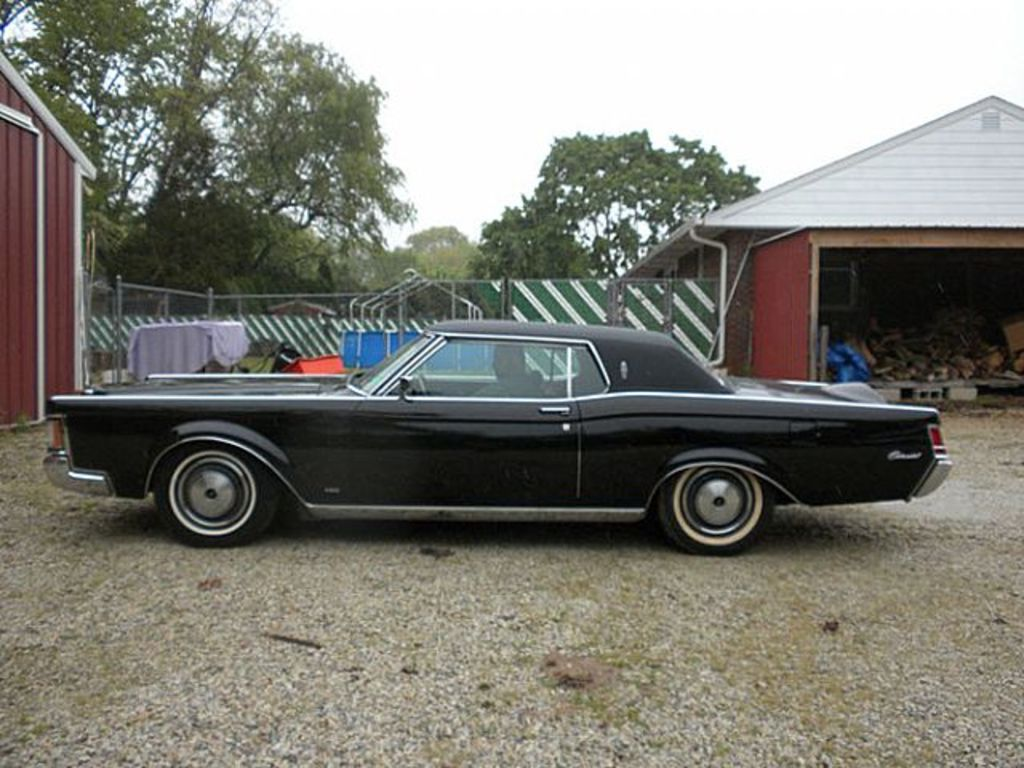Car: (41, 320, 952, 548)
